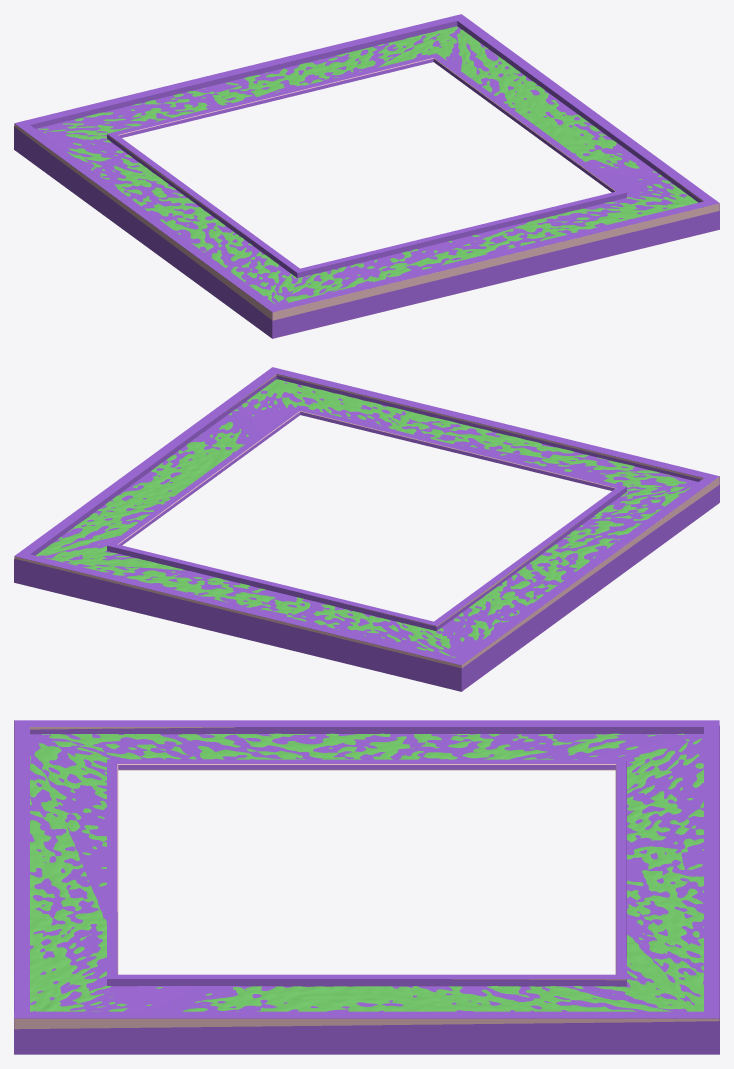
The model's file is [arch] Platform flowerbed.fbx.
3 renders of one model, top to bottom at view 1: azimuth 30°, elevation 25°; view 2: azimuth 150°, elevation 25°; view 3: azimuth 270°, elevation 25°, orthographic. The views are drawn at different scales.
Visible parts, largest first — view 1: Platform flowerbed_PHYS, Platform flowerbed_LOD0; view 2: Platform flowerbed_PHYS, Platform flowerbed_LOD0; view 3: Platform flowerbed_PHYS, Platform flowerbed_LOD0.
Part boxes in pixels (left/top/right/bottom): Platform flowerbed_PHYS: left=14, top=14, right=719, bottom=338; Platform flowerbed_LOD0: left=14, top=26, right=719, bottom=336; Platform flowerbed_PHYS: left=14, top=367, right=719, bottom=691; Platform flowerbed_LOD0: left=14, top=374, right=719, bottom=668; Platform flowerbed_PHYS: left=14, top=720, right=719, bottom=1054; Platform flowerbed_LOD0: left=14, top=720, right=719, bottom=1029.
Size of what is drawn, in the model's own units: 3509 by 199 by 3509.
